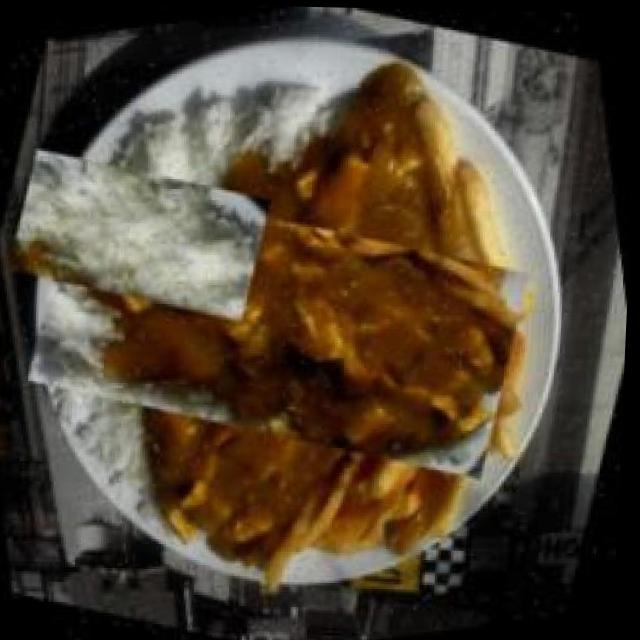curry: (25, 74, 537, 577)
rice: (4, 97, 282, 370)
